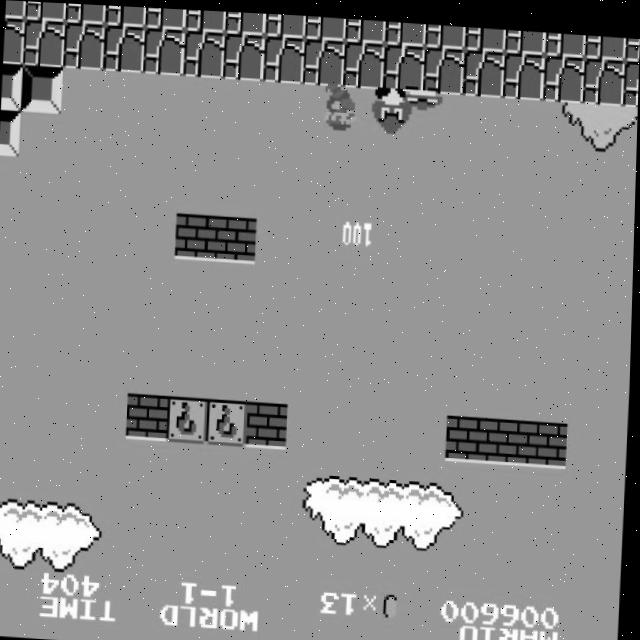1- brick_block: (127, 391, 171, 439), (215, 212, 258, 261), (175, 210, 218, 259), (527, 414, 570, 462), (487, 412, 530, 460), (447, 410, 490, 458), (247, 398, 290, 446)
11- little_mario: (321, 79, 366, 130)
13- mystery_block: (167, 394, 211, 441), (207, 396, 250, 444)
17- undestructible_block: (182, 27, 226, 76), (142, 25, 186, 74), (222, 30, 266, 78), (102, 23, 146, 71), (62, 21, 106, 69), (542, 48, 585, 97), (502, 46, 545, 95), (462, 44, 505, 93), (422, 41, 465, 90), (382, 39, 425, 88), (302, 34, 345, 83), (262, 32, 305, 81), (23, 18, 66, 67), (582, 51, 625, 99), (342, 37, 385, 85), (584, 28, 626, 54), (464, 21, 506, 47), (344, 14, 386, 40), (544, 26, 586, 51), (504, 24, 546, 49), (424, 19, 466, 44), (384, 17, 426, 42), (304, 12, 346, 37), (3, 17, 25, 64), (264, 11, 306, 35), (224, 9, 266, 33), (145, 6, 186, 29), (185, 8, 226, 30), (105, 4, 146, 26), (65, 3, 106, 23), (25, 1, 66, 21), (622, 53, 639, 100), (624, 30, 640, 54), (5, 0, 25, 18)
8- goomba: (370, 82, 415, 133)
9- hard_block: (20, 64, 64, 113), (1, 63, 23, 110), (0, 109, 21, 155)
